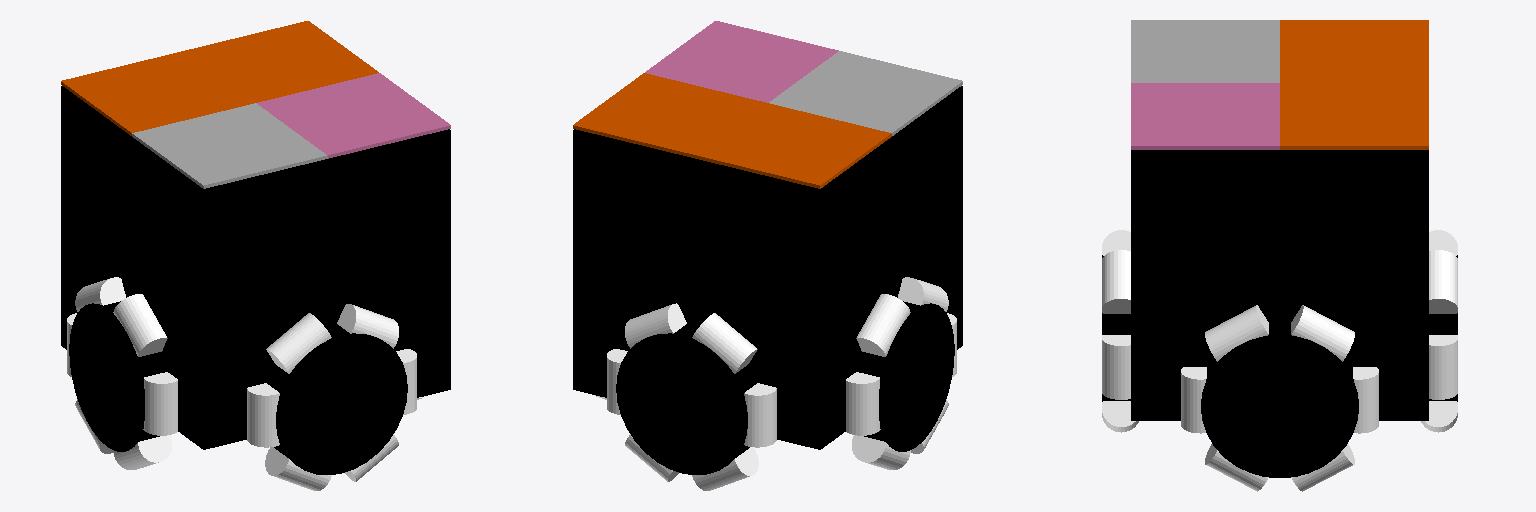
URDF robot description (robot):
<?xml version="1.0"?>

<robot name="robot">

  <material name="blue">
    <color rgba="0 0 1 1"/>
  </material>
  <material name="red">
    <color rgba="1 0 0 1"/>
  </material>
  <material name="green">
  <color rgba="0 1 0 1"/>
</material>
  <material name="white">
  <color rgba="1 1 1 1"/>
</material>
  <material name="black">
  <color rgba="0 0 0 1"/>
</material>
  <material name="yellow">
  <color rgba="1 1 0 1"/>
</material>

<!--
  <link name="world">
  </link>

  <joint name="base_planar_full" type="planar">
    <parent link="world"/>
    <child link="chassis"/>
    <origin xyz="0 0 0" rpy="0 0 0"/>
    <axis xyz="0 0 1"/>
    <limit lower="-3.14159" upper="3.14159" effort="0" velocity="0"/>
</joint>
-->


  <link name="chassis">
    <visual>
      <geometry>
        <box size="0.75 0.75 0.75"/>
      </geometry>
      <material name="black"/>
    </visual>
    <collision>
      <geometry>
        <box size="0.75 0.75 0.75"/>
      </geometry>
    </collision>
    <inertial>
      <mass value="10"/>
      <!--<inertia ixx="0.095" ixy="0.0" ixz="0.0" iyy="0.381" iyz="0.0" izz="0.476"/>-->
        <inertia ixx="0.46875" iyy="0.46875" izz="0.46875" ixy="0" ixz="0" iyz="0"/>
    </inertial>
  </link>

  <link name="left_wheel">
    <visual>
      <geometry>
        <cylinder length="0.1" radius="0.2"/>
      </geometry>
      <material name="black"/>
    </visual>
    <collision>
      <geometry>
        <cylinder length="0.1" radius="0.2"/>
      </geometry>
    </collision>
    <inertial>
      <mass value="1"/>
      <inertia ixx="0.005" ixy="0.0" ixz="0.0" iyy="0.005" iyz="0.0" izz="0.01"/>
    </inertial>
  </link>


<link name="left_wheel_roller1">
  <visual>
    <geometry>
      <cylinder length="0.15" radius="0.05"/>
    </geometry>
    <material name="white"/>
  </visual>
  <collision>
    <geometry>
      <cylinder length="0.15" radius="0.05"/>
    </geometry>
  </collision>
  <inertial>
    <mass value="0.1"/>
    <inertia ixx="0.0001" iyy="0.0001" izz="0.0001"/>
  </inertial>
</link>
<joint name="left_wheel_roller1_joint" type="fixed">
  <parent link="left_wheel"/>
  <child link="left_wheel_roller1"/>
  <origin xyz="0.2 0 0" rpy="1.5707 0 0"/>
</joint>

<link name="left_wheel_roller2">
  <visual>
    <geometry>
      <cylinder length="0.15" radius="0.05"/>
    </geometry>
    <material name="white"/>
  </visual>
  <collision>
    <geometry>
      <cylinder length="0.15" radius="0.05"/>
    </geometry>
  </collision>
  <inertial>
    <mass value="0.1"/>
    <inertia ixx="0.0001" iyy="0.0001" izz="0.0001"/>
  </inertial>
</link>
<joint name="left_wheel_roller2_joint" type="fixed">
  <parent link="left_wheel"/>
  <child link="left_wheel_roller2"/>
  <origin xyz="-0.2 0 0" rpy="1.5707 0 0"/>
</joint>

<link name="left_wheel_roller3">
  <visual>
    <geometry>
      <cylinder length="0.15" radius="0.05"/>
    </geometry>
    <material name="white"/>
  </visual>
  <collision>
    <geometry>
      <cylinder length="0.15" radius="0.05"/>
    </geometry>
  </collision>
  <inertial>
    <mass value="0.1"/>
    <inertia ixx="0.0001" iyy="0.0001" izz="0.0001"/>
  </inertial>
</link>
<joint name="left_wheel_roller3_joint" type="fixed">
  <parent link="left_wheel"/>
  <child link="left_wheel_roller3"/>
  <origin xyz="0.1 0.1732 0" rpy="1.5707 0 1.0472"/>
</joint>

<link name="left_wheel_roller4">
  <visual>
    <geometry>
      <cylinder length="0.15" radius="0.05"/>
    </geometry>
    <material name="white"/>
  </visual>
  <collision>
    <geometry>
      <cylinder length="0.15" radius="0.05"/>
    </geometry>
  </collision>
  <inertial>
    <mass value="0.1"/>
    <inertia ixx="0.0001" iyy="0.0001" izz="0.0001"/>
  </inertial>
</link>
<joint name="left_wheel_roller4_joint" type="fixed">
  <parent link="left_wheel"/>
  <child link="left_wheel_roller4"/>
  <origin xyz="-0.1 -0.1732 0" rpy="1.5707 0 1.0472"/>
</joint>

<link name="left_wheel_roller5">
  <visual>
    <geometry>
      <cylinder length="0.15" radius="0.05"/>
    </geometry>
    <material name="white"/>
  </visual>
  <collision>
    <geometry>
      <cylinder length="0.15" radius="0.05"/>
    </geometry>
  </collision>
  <inertial>
    <mass value="0.1"/>
    <inertia ixx="0.0001" iyy="0.0001" izz="0.0001"/>
  </inertial>
</link>
<joint name="left_wheel_roller5_joint" type="fixed">
  <parent link="left_wheel"/>
  <child link="left_wheel_roller5"/>
  <origin xyz="0.1 -0.1732 0" rpy="1.5707 0 2.0944"/>
</joint>

<link name="left_wheel_roller6">
  <visual>
    <geometry>
      <cylinder length="0.15" radius="0.05"/>
    </geometry>
    <material name="white"/>
  </visual>
  <collision>
    <geometry>
      <cylinder length="0.15" radius="0.05"/>
    </geometry>
  </collision>
  <inertial>
    <mass value="0.1"/>
    <inertia ixx="0.0001" iyy="0.0001" izz="0.0001"/>
  </inertial>
</link>
<joint name="left_wheel_roller6_joint" type="fixed">
  <parent link="left_wheel"/>
  <child link="left_wheel_roller6"/>
  <origin xyz="-0.1 0.1732 0" rpy="1.5707 0 2.0944"/>
</joint>

  <joint name="left_wheel_joint" type="continuous">
    <parent link="chassis"/>
    <child link="left_wheel"/>
    <origin rpy="-1.5707 0 0" xyz="0 0.4 -0.3"/>
    <axis xyz="0 0 1"/>
  </joint>



  <link name="right_wheel">
    <visual>
      <geometry>
        <cylinder length="0.1" radius="0.2"/>
      </geometry>
      <material name="black"/>
    </visual>
    <collision>
      <geometry>
        <cylinder length="0.1" radius="0.2"/>
      </geometry>
    </collision>
    <inertial>
      <mass value="1"/>
      <inertia ixx="0.005" ixy="0.0" ixz="0.0" iyy="0.005" iyz="0.0" izz="0.01"/>
    </inertial>
  </link>

  <joint name="right_wheel_joint" type="continuous">
    <parent link="chassis"/>
    <child link="right_wheel"/>
    <origin rpy="-1.5707 0 0" xyz="0 -0.4 -0.3"/>
    <axis xyz="0 0 1"/>
  </joint>

<link name="right_wheel_roller1">
  <visual>
    <geometry>
      <cylinder length="0.15" radius="0.05"/>
    </geometry>
    <material name="white"/>
  </visual>
  <collision>
    <geometry>
      <cylinder length="0.15" radius="0.05"/>
    </geometry>
  </collision>
  <inertial>
    <mass value="0.1"/>
    <inertia ixx="0.0001" iyy="0.0001" izz="0.0001"/>
  </inertial>
</link>
<joint name="right_wheel_roller1_joint" type="fixed">
  <parent link="right_wheel"/>
  <child link="right_wheel_roller1"/>
  <origin xyz="0.2 0 0" rpy="1.5707 0 0"/>
</joint>

<link name="right_wheel_roller2">
  <visual>
    <geometry>
      <cylinder length="0.15" radius="0.05"/>
    </geometry>
    <material name="white"/>
  </visual>
  <collision>
    <geometry>
      <cylinder length="0.15" radius="0.05"/>
    </geometry>
  </collision>
  <inertial>
    <mass value="0.1"/>
    <inertia ixx="0.0001" iyy="0.0001" izz="0.0001"/>
  </inertial>
</link>
<joint name="right_wheel_roller2_joint" type="fixed">
  <parent link="right_wheel"/>
  <child link="right_wheel_roller2"/>
  <origin xyz="-0.2 0 0" rpy="1.5707 0 0"/>
</joint>

<link name="right_wheel_roller3">
  <visual>
    <geometry>
      <cylinder length="0.15" radius="0.05"/>
    </geometry>
    <material name="white"/>
  </visual>
  <collision>
    <geometry>
      <cylinder length="0.15" radius="0.05"/>
    </geometry>
  </collision>
  <inertial>
    <mass value="0.1"/>
    <inertia ixx="0.0001" iyy="0.0001" izz="0.0001"/>
  </inertial>
</link>
<joint name="right_wheel_roller3_joint" type="fixed">
  <parent link="right_wheel"/>
  <child link="right_wheel_roller3"/>
  <origin xyz="0.1 0.1732 0" rpy="1.5707 0 1.0472"/>
</joint>

<link name="right_wheel_roller4">
  <visual>
    <geometry>
      <cylinder length="0.15" radius="0.05"/>
    </geometry>
    <material name="white"/>
  </visual>
  <collision>
    <geometry>
      <cylinder length="0.15" radius="0.05"/>
    </geometry>
  </collision>
  <inertial>
    <mass value="0.1"/>
    <inertia ixx="0.0001" iyy="0.0001" izz="0.0001"/>
  </inertial>
</link>
<joint name="right_wheel_roller4_joint" type="fixed">
  <parent link="right_wheel"/>
  <child link="right_wheel_roller4"/>
  <origin xyz="-0.1 -0.1732 0" rpy="1.5707 0 1.0472"/>
</joint>

<link name="right_wheel_roller5">
  <visual>
    <geometry>
      <cylinder length="0.15" radius="0.05"/>
    </geometry>
    <material name="white"/>
  </visual>
  <collision>
    <geometry>
      <cylinder length="0.15" radius="0.05"/>
    </geometry>
  </collision>
  <inertial>
    <mass value="0.1"/>
    <inertia ixx="0.0001" iyy="0.0001" izz="0.0001"/>
  </inertial>
</link>
<joint name="right_wheel_roller5_joint" type="fixed">
  <parent link="right_wheel"/>
  <child link="right_wheel_roller5"/>
  <origin xyz="0.1 -0.1732 0" rpy="1.5707 0 2.0944"/>
</joint>

<link name="right_wheel_roller6">
  <visual>
    <geometry>
      <cylinder length="0.15" radius="0.05"/>
    </geometry>
    <material name="white"/>
  </visual>
  <collision>
    <geometry>
      <cylinder length="0.15" radius="0.05"/>
    </geometry>
  </collision>
  <inertial>
    <mass value="0.1"/>
    <inertia ixx="0.0001" iyy="0.0001" izz="0.0001"/>
  </inertial>
</link>
<joint name="right_wheel_roller6_joint" type="fixed">
  <parent link="right_wheel"/>
  <child link="right_wheel_roller6"/>
  <origin xyz="-0.1 0.1732 0" rpy="1.5707 0 2.0944"/>
</joint>



  <link name="front_wheel">
    <visual>
      <geometry>
        <cylinder length="0.1" radius="0.2"/>
      </geometry>
      <material name="black"/>
    </visual>
    <collision>
      <geometry>
        <cylinder length="0.1" radius="0.2"/>
      </geometry>
    </collision>
    <inertial>
      <mass value="1"/>
      <inertia ixx="0.005" ixy="0.0" ixz="0.0" iyy="0.005" iyz="0.0" izz="0.01"/>
    </inertial>
  </link>

  <joint name="front_wheel_joint" type="continuous">
    <parent link="chassis"/>
    <child link="front_wheel"/>
    <origin rpy="-1.5707 0 1.5707" xyz="0.4 0 -0.3"/>
    <axis xyz="0 0 1"/>
  </joint>


  <link name="front_wheel_roller1">
  <visual>
    <geometry>
      <cylinder length="0.15" radius="0.05"/>
    </geometry>
    <material name="white"/>
  </visual>
  <collision>
    <geometry>
      <cylinder length="0.15" radius="0.05"/>
    </geometry>
  </collision>
  <inertial>
    <mass value="0.1"/>
    <inertia ixx="0.0001" iyy="0.0001" izz="0.0001"/>
  </inertial>
</link>
<joint name="front_wheel_roller1_joint" type="fixed">
  <parent link="front_wheel"/>
  <child link="front_wheel_roller1"/>
  <origin xyz="0.2 0 0" rpy="1.5707 0 0"/>
</joint>

<link name="front_wheel_roller2">
  <visual>
    <geometry>
      <cylinder length="0.15" radius="0.05"/>
    </geometry>
    <material name="white"/>
  </visual>
  <collision>
    <geometry>
      <cylinder length="0.15" radius="0.05"/>
    </geometry>
  </collision>
  <inertial>
    <mass value="0.1"/>
    <inertia ixx="0.0001" iyy="0.0001" izz="0.0001"/>
  </inertial>
</link>
<joint name="front_wheel_roller2_joint" type="fixed">
  <parent link="front_wheel"/>
  <child link="front_wheel_roller2"/>
  <origin xyz="-0.2 0 0" rpy="1.5707 0 0"/>
</joint>

<link name="front_wheel_roller3">
  <visual>
    <geometry>
      <cylinder length="0.15" radius="0.05"/>
    </geometry>
    <material name="white"/>
  </visual>
  <collision>
    <geometry>
      <cylinder length="0.15" radius="0.05"/>
    </geometry>
  </collision>
  <inertial>
    <mass value="0.1"/>
    <inertia ixx="0.0001" iyy="0.0001" izz="0.0001"/>
  </inertial>
</link>
<joint name="front_wheel_roller3_joint" type="fixed">
  <parent link="front_wheel"/>
  <child link="front_wheel_roller3"/>
  <origin xyz="0.1 0.1732 0" rpy="1.5707 0 1.0472"/>
</joint>

<link name="front_wheel_roller4">
  <visual>
    <geometry>
      <cylinder length="0.15" radius="0.05"/>
    </geometry>
    <material name="white"/>
  </visual>
  <collision>
    <geometry>
      <cylinder length="0.15" radius="0.05"/>
    </geometry>
  </collision>
  <inertial>
    <mass value="0.1"/>
    <inertia ixx="0.0001" iyy="0.0001" izz="0.0001"/>
  </inertial>
</link>
<joint name="front_wheel_roller4_joint" type="fixed">
  <parent link="front_wheel"/>
  <child link="front_wheel_roller4"/>
  <origin xyz="-0.1 -0.1732 0" rpy="1.5707 0 1.0472"/>
</joint>

<link name="front_wheel_roller5">
  <visual>
    <geometry>
      <cylinder length="0.15" radius="0.05"/>
    </geometry>
    <material name="white"/>
  </visual>
  <collision>
    <geometry>
      <cylinder length="0.15" radius="0.05"/>
    </geometry>
  </collision>
  <inertial>
    <mass value="0.1"/>
    <inertia ixx="0.0001" iyy="0.0001" izz="0.0001"/>
  </inertial>
</link>
<joint name="front_wheel_roller5_joint" type="fixed">
  <parent link="front_wheel"/>
  <child link="front_wheel_roller5"/>
  <origin xyz="0.1 -0.1732 0" rpy="1.5707 0 2.0944"/>
</joint>

<link name="front_wheel_roller6">
  <visual>
    <geometry>
      <cylinder length="0.15" radius="0.05"/>
    </geometry>
    <material name="white"/>
  </visual>
  <collision>
    <geometry>
      <cylinder length="0.15" radius="0.05"/>
    </geometry>
  </collision>
  <inertial>
    <mass value="0.1"/>
    <inertia ixx="0.0001" iyy="0.0001" izz="0.0001"/>
  </inertial>
</link>
<joint name="front_wheel_roller6_joint" type="fixed">
  <parent link="front_wheel"/>
  <child link="front_wheel_roller6"/>
  <origin xyz="-0.1 0.1732 0" rpy="1.5707 0 2.0944"/>
</joint>




  <link name="back_wheel">
    <visual>
      <geometry>
        <cylinder length="0.1" radius="0.2"/>
      </geometry>
      <material name="black"/>
    </visual>
    <collision>
      <geometry>
        <cylinder length="0.1" radius="0.2"/>
      </geometry>
    </collision>
    <inertial>
      <mass value="1"/>
      <inertia ixx="0.005" ixy="0.0" ixz="0.0" iyy="0.005" iyz="0.0" izz="0.01"/>
    </inertial>
  </link>

  <joint name="back_wheel_joint" type="continuous">
    <parent link="chassis"/>
    <child link="back_wheel"/>
    <origin rpy="-1.5707 0 1.5707" xyz="-0.4 0 -0.3"/>
    <axis xyz="0 0 1"/>
  </joint>

  <link name="back_wheel_roller1">
  <visual>
    <geometry>
      <cylinder length="0.15" radius="0.05"/>
    </geometry>
    <material name="white"/>
  </visual>
  <collision>
    <geometry>
      <cylinder length="0.15" radius="0.05"/>
    </geometry>
  </collision>
  <inertial>
    <mass value="0.1"/>
    <inertia ixx="0.0001" iyy="0.0001" izz="0.0001"/>
  </inertial>
</link>
<joint name="back_wheel_roller1_joint" type="fixed">
  <parent link="back_wheel"/>
  <child link="back_wheel_roller1"/>
  <origin xyz="0.2 0 0" rpy="1.5707 0 0"/>
</joint>

<link name="back_wheel_roller2">
  <visual>
    <geometry>
      <cylinder length="0.15" radius="0.05"/>
    </geometry>
    <material name="white"/>
  </visual>
  <collision>
    <geometry>
      <cylinder length="0.15" radius="0.05"/>
    </geometry>
  </collision>
  <inertial>
    <mass value="0.1"/>
    <inertia ixx="0.0001" iyy="0.0001" izz="0.0001"/>
  </inertial>
</link>
<joint name="back_wheel_roller2_joint" type="fixed">
  <parent link="back_wheel"/>
  <child link="back_wheel_roller2"/>
  <origin xyz="-0.2 0 0" rpy="1.5707 0 0"/>
</joint>

<link name="back_wheel_roller3">
  <visual>
    <geometry>
      <cylinder length="0.15" radius="0.05"/>
    </geometry>
    <material name="white"/>
  </visual>
  <collision>
    <geometry>
      <cylinder length="0.15" radius="0.05"/>
    </geometry>
  </collision>
  <inertial>
    <mass value="0.1"/>
    <inertia ixx="0.0001" iyy="0.0001" izz="0.0001"/>
  </inertial>
</link>
<joint name="back_wheel_roller3_joint" type="fixed">
  <parent link="back_wheel"/>
  <child link="back_wheel_roller3"/>
  <origin xyz="0.1 0.1732 0" rpy="1.5707 0 1.0472"/>
</joint>

<link name="back_wheel_roller4">
  <visual>
    <geometry>
      <cylinder length="0.15" radius="0.05"/>
    </geometry>
    <material name="white"/>
  </visual>
  <collision>
    <geometry>
      <cylinder length="0.15" radius="0.05"/>
    </geometry>
  </collision>
  <inertial>
    <mass value="0.1"/>
    <inertia ixx="0.0001" iyy="0.0001" izz="0.0001"/>
  </inertial>
</link>
<joint name="back_wheel_roller4_joint" type="fixed">
  <parent link="back_wheel"/>
  <child link="back_wheel_roller4"/>
  <origin xyz="-0.1 -0.1732 0" rpy="1.5707 0 1.0472"/>
</joint>

<link name="back_wheel_roller5">
  <visual>
    <geometry>
      <cylinder length="0.15" radius="0.05"/>
    </geometry>
    <material name="white"/>
  </visual>
  <collision>
    <geometry>
      <cylinder length="0.15" radius="0.05"/>
    </geometry>
  </collision>
  <inertial>
    <mass value="0.1"/>
    <inertia ixx="0.0001" iyy="0.0001" izz="0.0001"/>
  </inertial>
</link>
<joint name="back_wheel_roller5_joint" type="fixed">
  <parent link="back_wheel"/>
  <child link="back_wheel_roller5"/>
  <origin xyz="0.1 -0.1732 0" rpy="1.5707 0 2.0944"/>
</joint>

<link name="back_wheel_roller6">
  <visual>
    <geometry>
      <cylinder length="0.15" radius="0.05"/>
    </geometry>
    <material name="white"/>
  </visual>
  <collision>
    <geometry>
      <cylinder length="0.15" radius="0.05"/>
    </geometry>
  </collision>
  <inertial>
    <mass value="0.1"/>
    <inertia ixx="0.0001" iyy="0.0001" izz="0.0001"/>
  </inertial>
</link>
<joint name="back_wheel_roller6_joint" type="fixed">
  <parent link="back_wheel"/>
  <child link="back_wheel_roller6"/>
  <origin xyz="-0.1 0.1732 0" rpy="1.5707 0 2.0944"/>
</joint>


  <link name="main_color">
    <visual>
      <geometry>
        <box size="0.75 0.375 0.01"/>
      </geometry>
    </visual>
    <collision>
      <geometry>
        <box size="0.75 0.375 0.01"/>
      </geometry>
    </collision>
    <inertial>
      <mass value="0.1"/>
      <inertia ixx="0.095" ixy="0.0" ixz="0.0" iyy="0.381" iyz="0.0" izz="0.476"/>
    </inertial>
  </link>
    <joint name="main_color_joint" type="fixed">
      <parent link="chassis"/>
      <child link="main_color"/>
      <origin rpy="0 0 0" xyz="0 0.1875 0.385"/>
    </joint>

    <link name="secondary_color1">
    <visual>
      <geometry>
        <box size="0.375 0.375 0.01"/>
      </geometry>
    </visual>
    <collision>
      <geometry>
        <box size="0.375 0.375 0.01"/>
      </geometry>
    </collision>
    <inertial>
      <mass value="0.1"/>
      <inertia ixx="0.095" ixy="0.0" ixz="0.0" iyy="0.381" iyz="0.0" izz="0.476"/>
    </inertial>
  </link>
    <joint name="secondary_color_joint1" type="fixed">
      <parent link="chassis"/>
      <child link="secondary_color1"/>
      <origin rpy="0 0 0" xyz="0.1875 -0.1875 0.385"/>
    </joint>

    <link name="secondary_color2">
    <visual>
      <geometry>
        <box size="0.375 0.375 0.01"/>
      </geometry>
    </visual>
    <collision>
      <geometry>
        <box size="0.375 0.375 0.01"/>
      </geometry>
    </collision>
    <inertial>
      <mass value="0.1"/>
      <inertia ixx="0.095" ixy="0.0" ixz="0.0" iyy="0.381" iyz="0.0" izz="0.476"/>
    </inertial>
  </link>
    <joint name="secondary_color_joint2" type="fixed">
      <parent link="chassis"/>
      <child link="secondary_color2"/>
      <origin rpy="0 0 0" xyz="-0.1875 -0.1875 0.385"/>
    </joint>


</robot>

--- Facts derived from the render (not from the file) ---
The picture shows the robot from 3 angles, left to right: view 1: azimuth 30°, elevation 25°; view 2: azimuth 150°, elevation 25°; view 3: azimuth 270°, elevation 25°; orthographic projection.
Robot: robot — 32 links, 31 joints (4 continuous, 27 fixed); root link chassis; default pose: every joint at zero.
Links seen in each view (by area): view 1: chassis, main_color, right_wheel, secondary_color2, secondary_color1, back_wheel, back_wheel_roller4, back_wheel_roller2, right_wheel_roller4, right_wheel_roller2, right_wheel_roller5, right_wheel_roller6 (+4 smaller); view 2: chassis, main_color, left_wheel, back_wheel, secondary_color2, secondary_color1, back_wheel_roller5, back_wheel_roller1, left_wheel_roller4, left_wheel_roller2, left_wheel_roller5, left_wheel_roller6 (+4 smaller); view 3: chassis, main_color, front_wheel, secondary_color1, secondary_color2, left_wheel_roller1, right_wheel_roller1, front_wheel_roller4, front_wheel_roller5, left_wheel_roller5, right_wheel_roller5, front_wheel_roller1 (+9 smaller).
Boxes of the visible links, x1=… form: chassis: x1=61, y1=86, x2=450, y2=449; main_color: x1=61, y1=21, x2=378, y2=135; right_wheel: x1=266, y1=324, x2=407, y2=474; secondary_color2: x1=132, y1=103, x2=327, y2=188; secondary_color1: x1=257, y1=73, x2=450, y2=158; back_wheel: x1=69, y1=301, x2=166, y2=451; back_wheel_roller4: x1=113, y1=294, x2=167, y2=356; back_wheel_roller2: x1=143, y1=372, x2=177, y2=435; right_wheel_roller4: x1=266, y1=313, x2=331, y2=373; right_wheel_roller2: x1=247, y1=383, x2=279, y2=447; right_wheel_roller5: x1=337, y1=304, x2=398, y2=348; right_wheel_roller6: x1=265, y1=447, x2=331, y2=490; chassis: x1=573, y1=86, x2=962, y2=449; main_color: x1=573, y1=73, x2=891, y2=188; left_wheel: x1=616, y1=324, x2=757, y2=474; back_wheel: x1=857, y1=301, x2=954, y2=451; secondary_color2: x1=769, y1=51, x2=962, y2=135; secondary_color1: x1=645, y1=21, x2=838, y2=102; back_wheel_roller5: x1=856, y1=294, x2=910, y2=356; back_wheel_roller1: x1=846, y1=372, x2=880, y2=435; left_wheel_roller4: x1=692, y1=313, x2=757, y2=373; left_wheel_roller2: x1=744, y1=383, x2=776, y2=447; left_wheel_roller5: x1=625, y1=303, x2=686, y2=348; left_wheel_roller6: x1=692, y1=447, x2=758, y2=490; chassis: x1=1131, y1=150, x2=1428, y2=420; main_color: x1=1280, y1=20, x2=1428, y2=149; front_wheel: x1=1201, y1=322, x2=1358, y2=477; secondary_color1: x1=1131, y1=83, x2=1279, y2=149; secondary_color2: x1=1131, y1=20, x2=1279, y2=82; left_wheel_roller1: x1=1429, y1=335, x2=1457, y2=399; right_wheel_roller1: x1=1102, y1=335, x2=1130, y2=399; front_wheel_roller4: x1=1205, y1=305, x2=1268, y2=361; front_wheel_roller5: x1=1291, y1=305, x2=1354, y2=361; left_wheel_roller5: x1=1429, y1=250, x2=1457, y2=313; right_wheel_roller5: x1=1102, y1=250, x2=1130, y2=313; front_wheel_roller1: x1=1353, y1=367, x2=1378, y2=433.
Bounding box of the posed robot: 0.9001 × 0.9001 × 0.944 m (x, y, z).
Geometry: primitives only (box / cylinder / sphere), no mesh files.